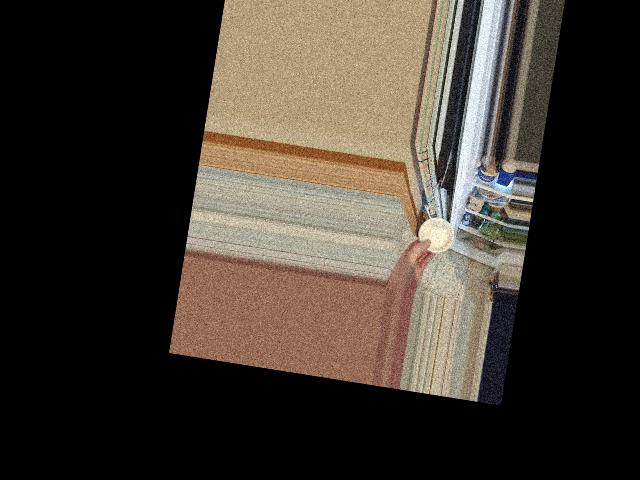cotage: (413, 216, 451, 256)
